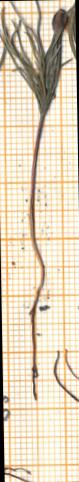flower: (0, 0, 68, 118)
root: (25, 302, 50, 402)
stem: (24, 118, 56, 302)
